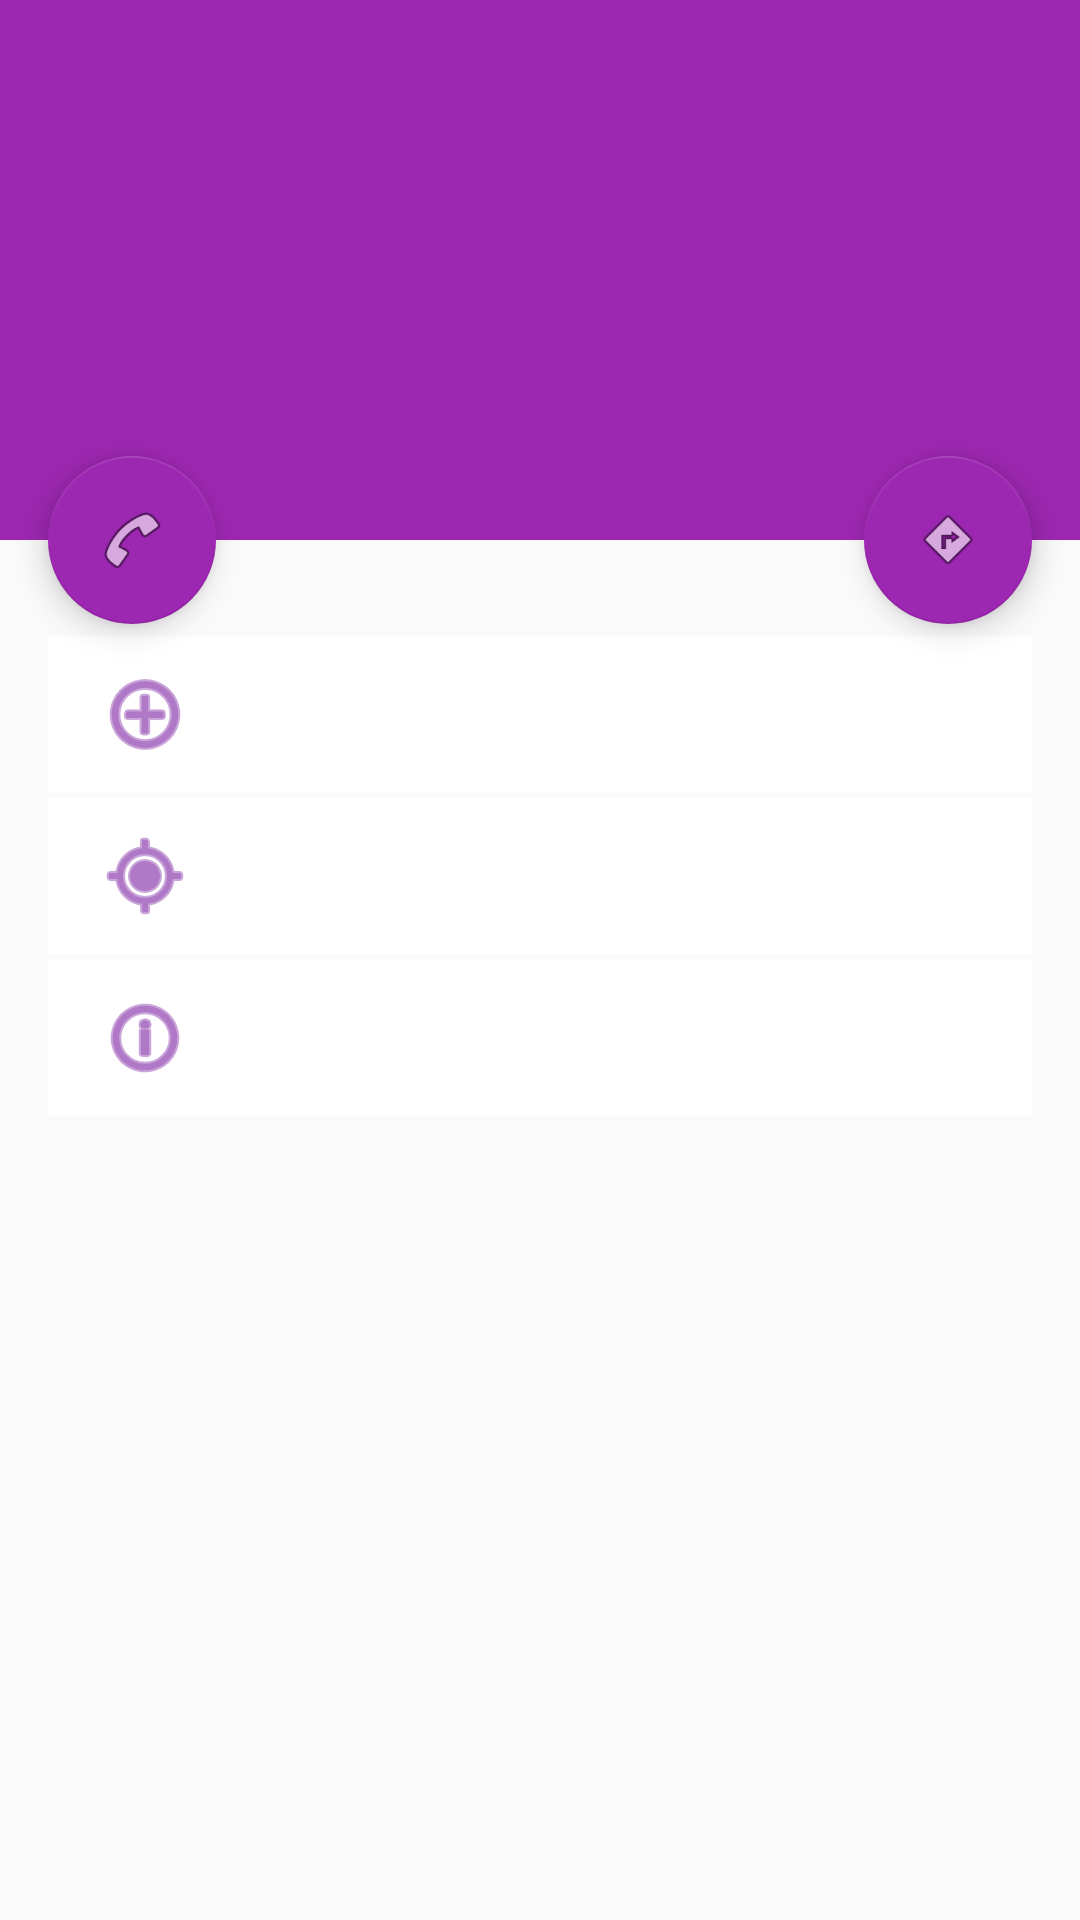

Icon click points for this 1080 × 1920 phone screenshot, format (x=x, y=y):
add: (x=145, y=714)
call: (x=132, y=540)
directions: (x=948, y=540)
info details: (x=145, y=1038)
mylocation: (x=145, y=876)
